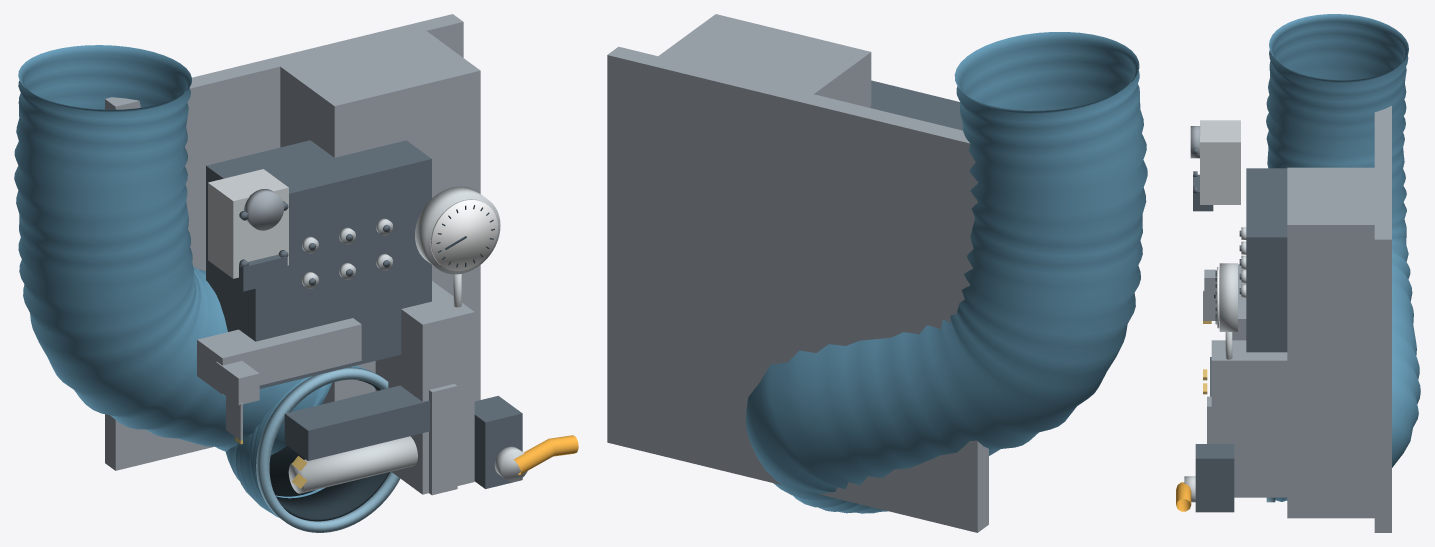
File: carriage.glb
The picture shows the model from 3 angles, left to right: view 1: azimuth 30°, elevation 25°; view 2: azimuth 150°, elevation 25°; view 3: azimuth 270°, elevation 25°; orthographic projection. The views are drawn at different scales.
Parts seen in each view (by area): view 1: HOSE_BODY, Main gang block, Base column, 300mm assembly backing, Lower gang support, Upper rectangular boring bar, Parting attachment, Auto link body, HOSE_MOUTH, Lower round boring bar, Dial gauge face, Lever bracket (+9 smaller); view 2: 300mm assembly backing, HOSE_BODY, Base column, Main gang block; view 3: Base column, HOSE_BODY, Lower gang support, Main gang block, 300mm assembly backing, Auto link body, Lever bracket, Dial gauge case, Parting attachment, Parting holder, Orange clamp lever, Parting thin blade (+2 smaller).
Boxes of the visible parts, x1,y1,x2,y2 form: HOSE_BODY: [14, 45, 375, 517]; Main gang block: [206, 140, 431, 388]; Base column: [274, 26, 480, 404]; 300mm assembly backing: [105, 14, 463, 470]; Lower gang support: [375, 281, 474, 494]; Upper rectangular boring bar: [284, 385, 429, 460]; Parting attachment: [197, 318, 361, 394]; Auto link body: [208, 169, 288, 278]; HOSE_MOUTH: [256, 367, 400, 532]; Lower round boring bar: [288, 436, 417, 493]; Dial gauge face: [430, 199, 497, 271]; Lever bracket: [474, 395, 522, 488]; 300mm assembly backing: [607, 46, 988, 532]; HOSE_BODY: [746, 32, 1147, 513]; Base column: [652, 14, 871, 107]; Main gang block: [870, 80, 962, 130]; Base column: [1287, 167, 1384, 518]; HOSE_BODY: [1266, 14, 1420, 501]; Lower gang support: [1211, 340, 1287, 497]; Main gang block: [1246, 168, 1287, 352]; 300mm assembly backing: [1374, 105, 1391, 532]; Auto link body: [1200, 120, 1240, 204]; Lever bracket: [1195, 444, 1234, 512]; Dial gauge case: [1219, 263, 1237, 331]; Parting attachment: [1232, 264, 1246, 340]; Parting holder: [1204, 269, 1219, 299]; Orange clamp lever: [1176, 482, 1191, 511]; Parting thin blade: [1203, 290, 1219, 320].
Bounding box in the file's own units: 398 × 390 × 227.
